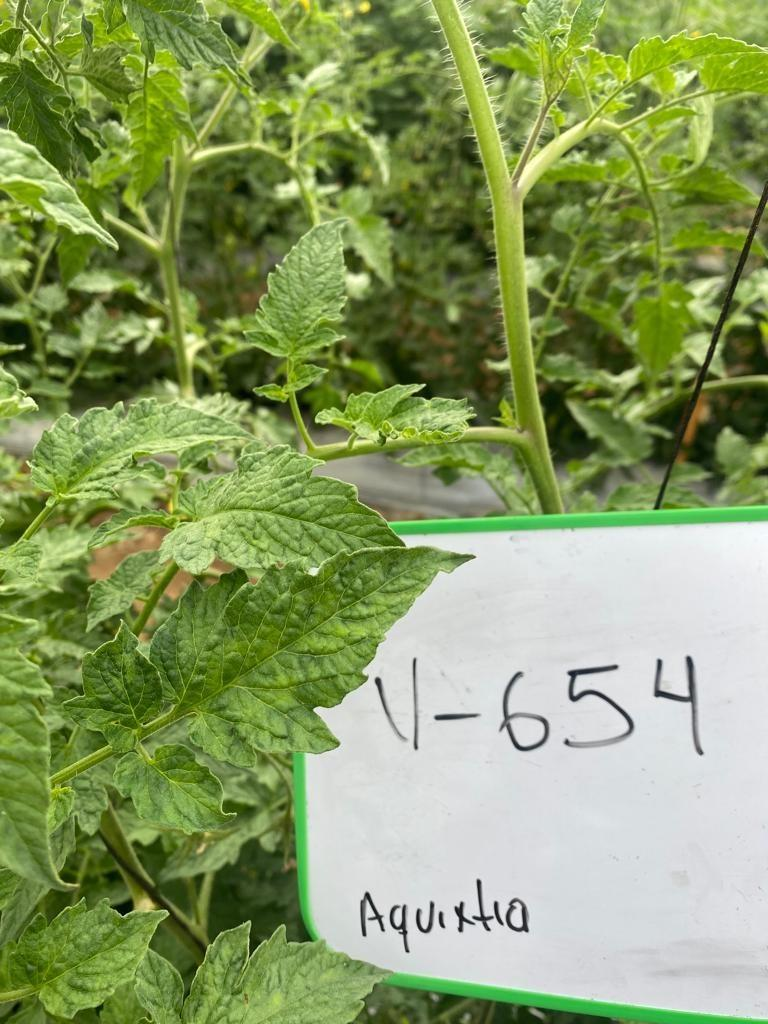Hoja: (64, 624, 162, 752)
Hoja rugoso: (150, 548, 460, 765), (24, 398, 244, 538), (161, 446, 401, 573), (136, 921, 386, 1023), (2, 898, 168, 1018), (0, 614, 68, 888), (247, 220, 347, 360), (114, 744, 232, 833), (122, 0, 240, 78), (0, 58, 74, 174), (86, 550, 162, 629)
Pedunculo: (433, 0, 564, 514)
